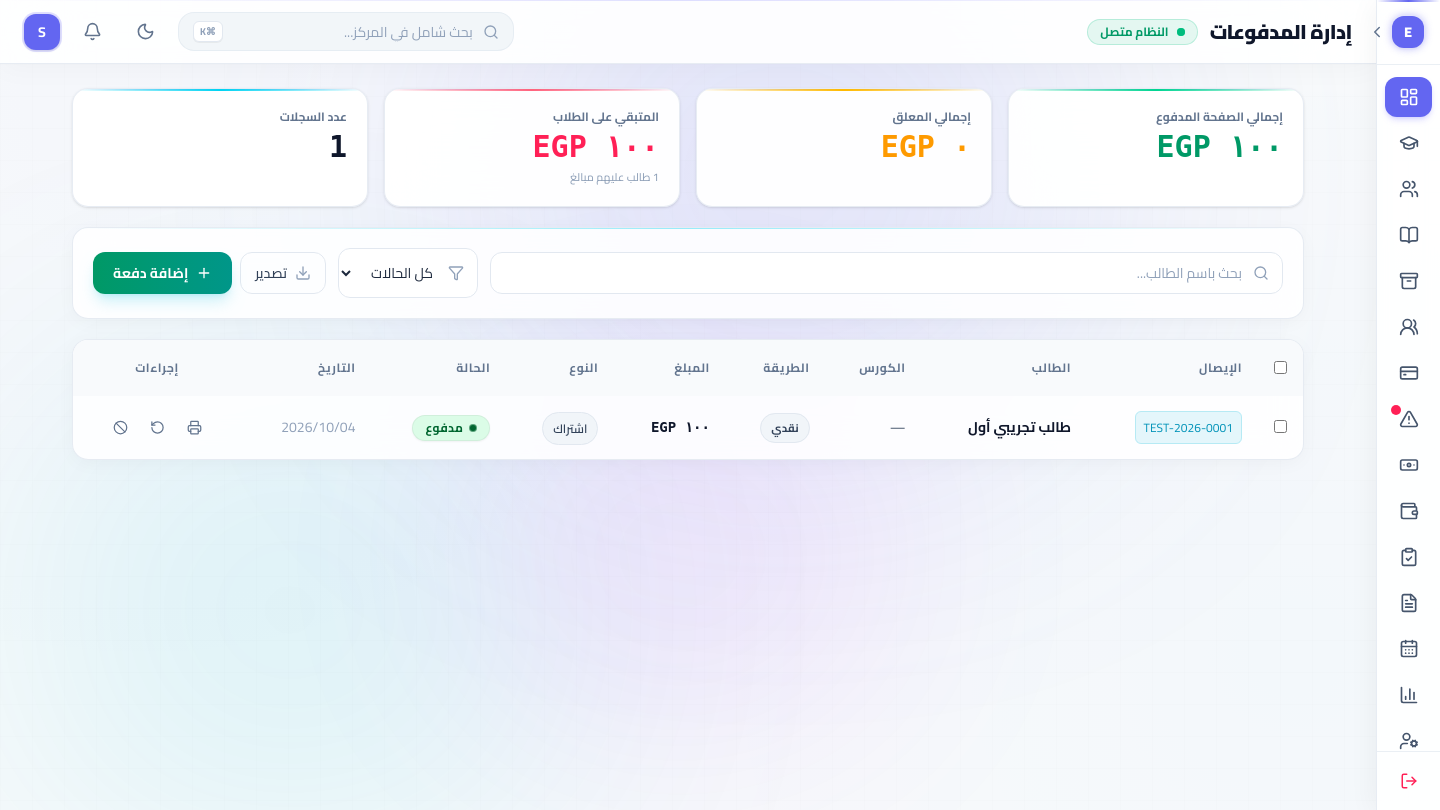
it: payment form and reversal dialogs › keeps voiding auditable without deleting the payment or its receipt
Click the button named "إلغاء الدفعة" at (120, 427), box [104,412,136,442]
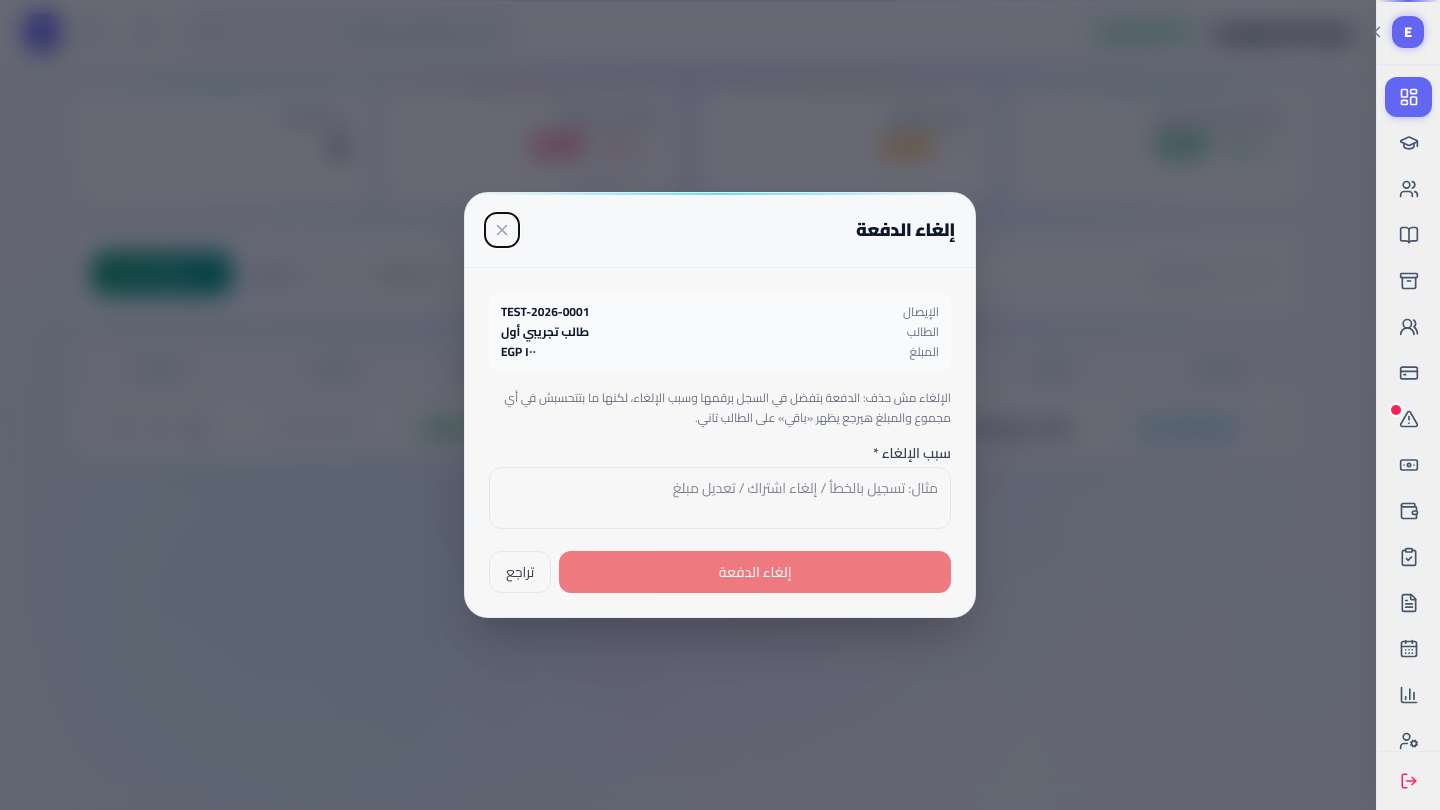
expect the text box with placeholder "مثال: تسجيل بالخطأ / إلغاء اشتراك / تعديل مبلغ" is shown: met
Type "إلغاء اختبار" into the text box with placeholder "مثال: تسجيل بالخطأ / إلغاء اشتراك / تعديل مبلغ" at (720, 498), box [489,467,951,529]
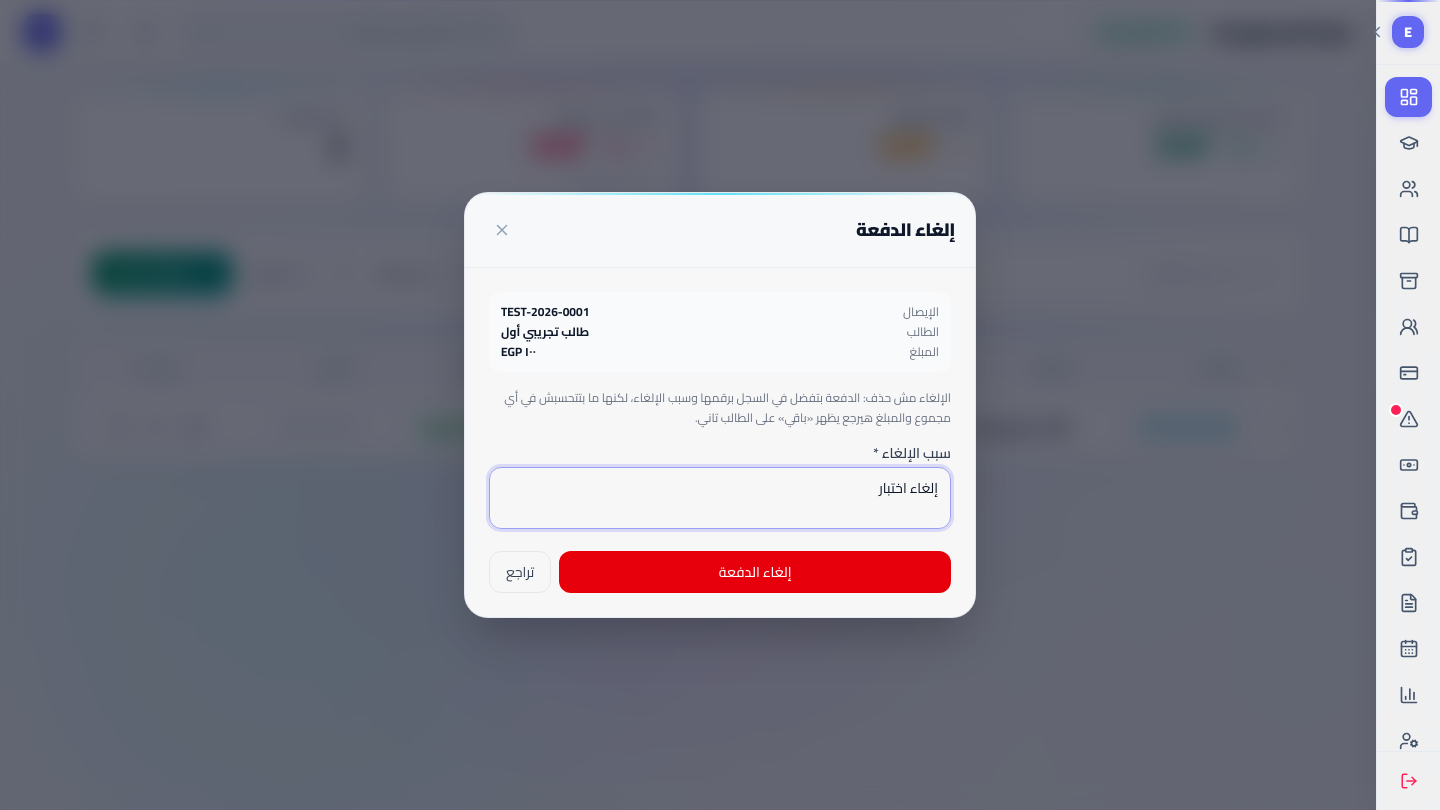
Click the button "إلغاء الدفعة" at (755, 572), box [559,551,951,593]
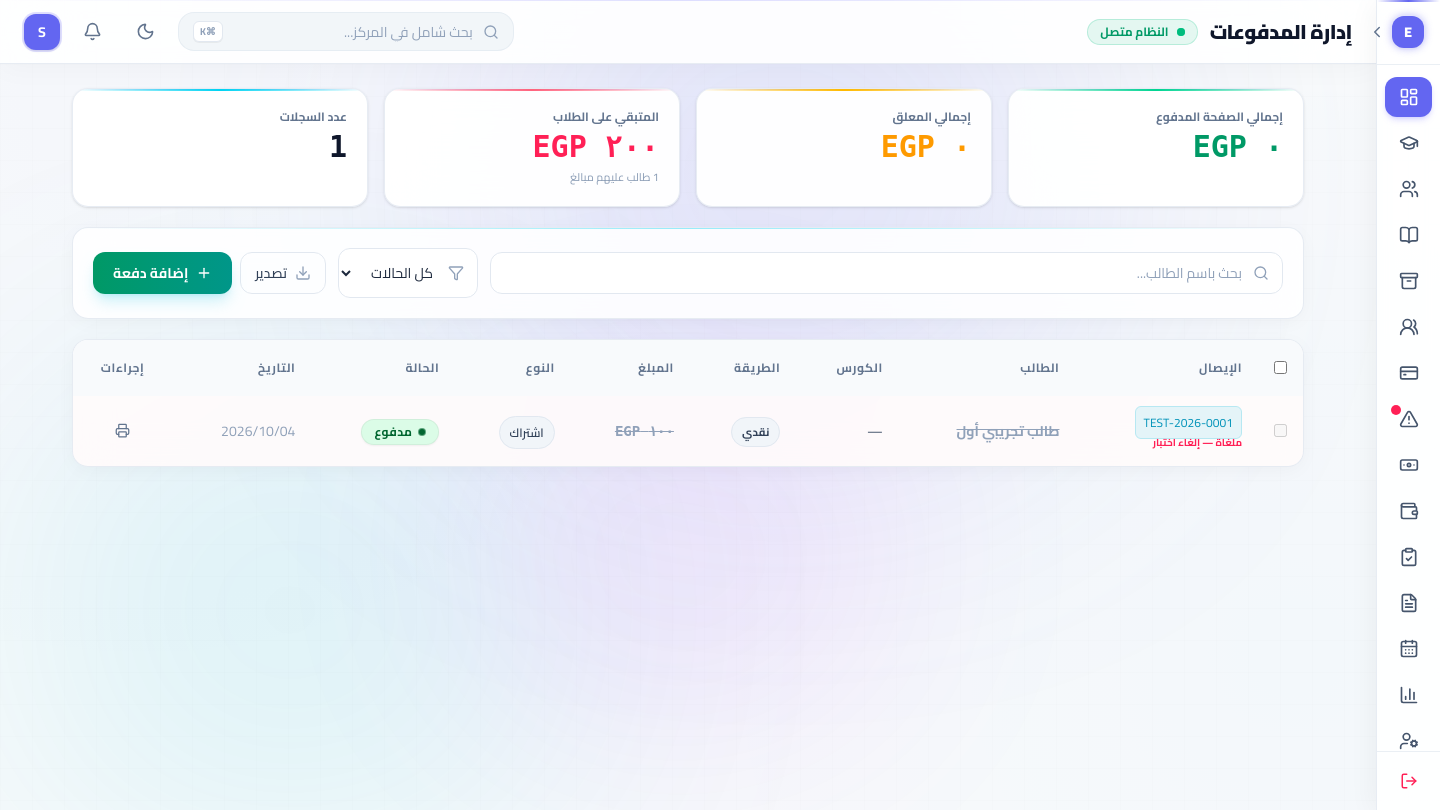
expect the dialog is gone: met
